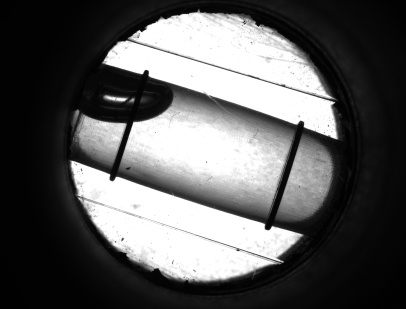line: (265, 141, 302, 208), (110, 130, 135, 162)
